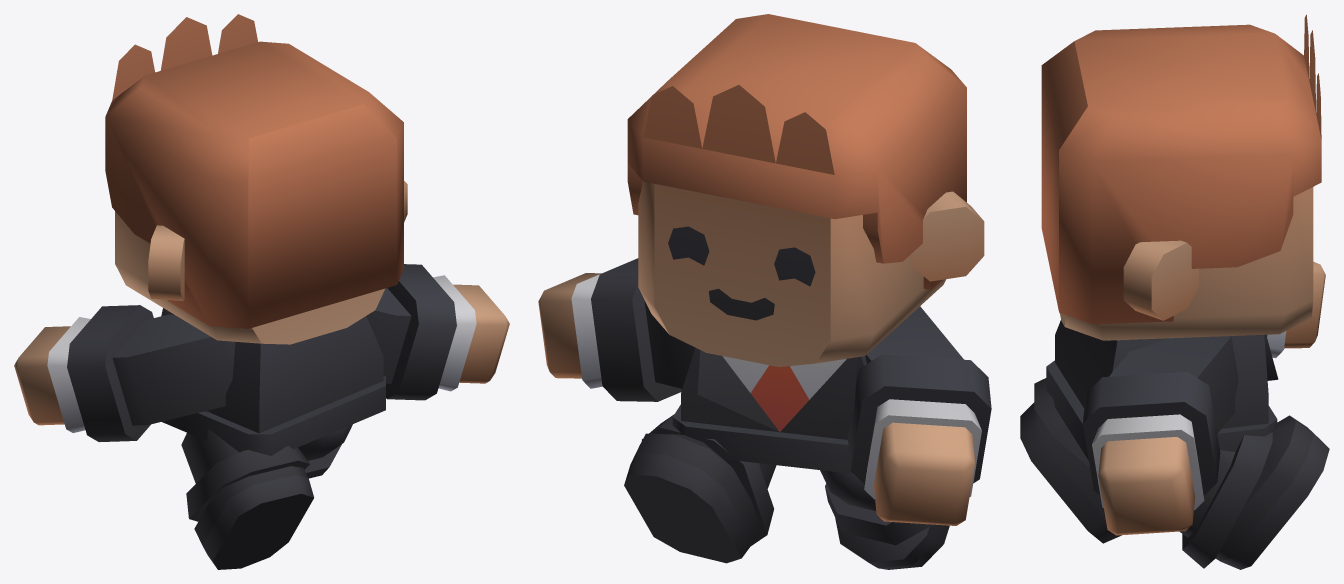
Rendered from hand_2_w3.fbx.
The picture shows the model from 3 angles, left to right: view 1: azimuth 30°, elevation 25°; view 2: azimuth 150°, elevation 25°; view 3: azimuth 270°, elevation 25°; orthographic projection. The views are drawn at different scales.
Parts seen in each view (by area): view 1: body-mesh; view 2: body-mesh; view 3: body-mesh.
Boxes of the visible parts, <box> form: body-mesh: <box>14,14,509,569</box>; body-mesh: <box>538,14,991,569</box>; body-mesh: <box>1020,14,1329,569</box>.
Bounding box in the file's own units: 0.9297 × 1 × 0.5316.
